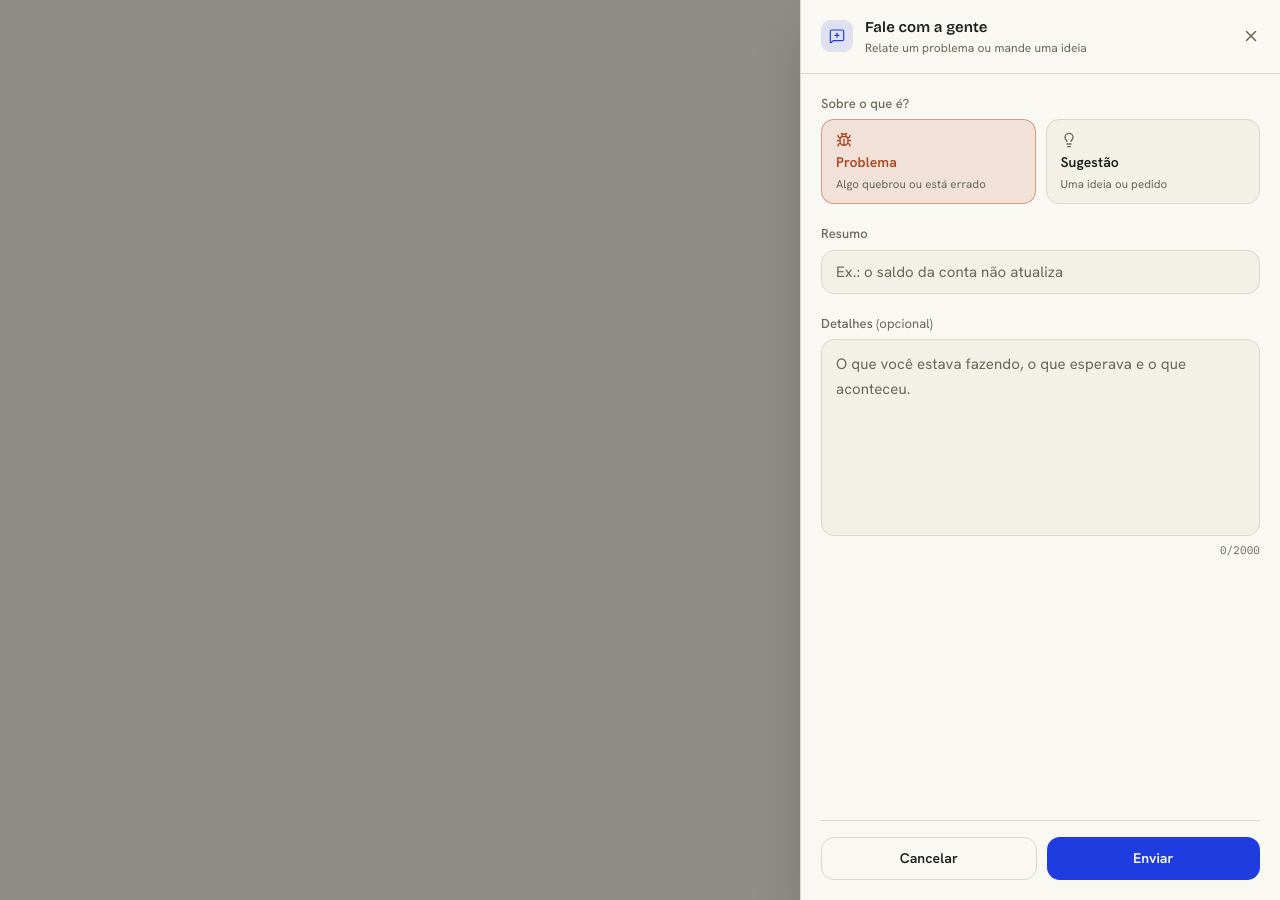
Test: FeedbackDrawer › refuses a summary shorter than three characters
Type "ab" into the field labelled "Resumo" at (1040, 272), box [821,250,1260,294]
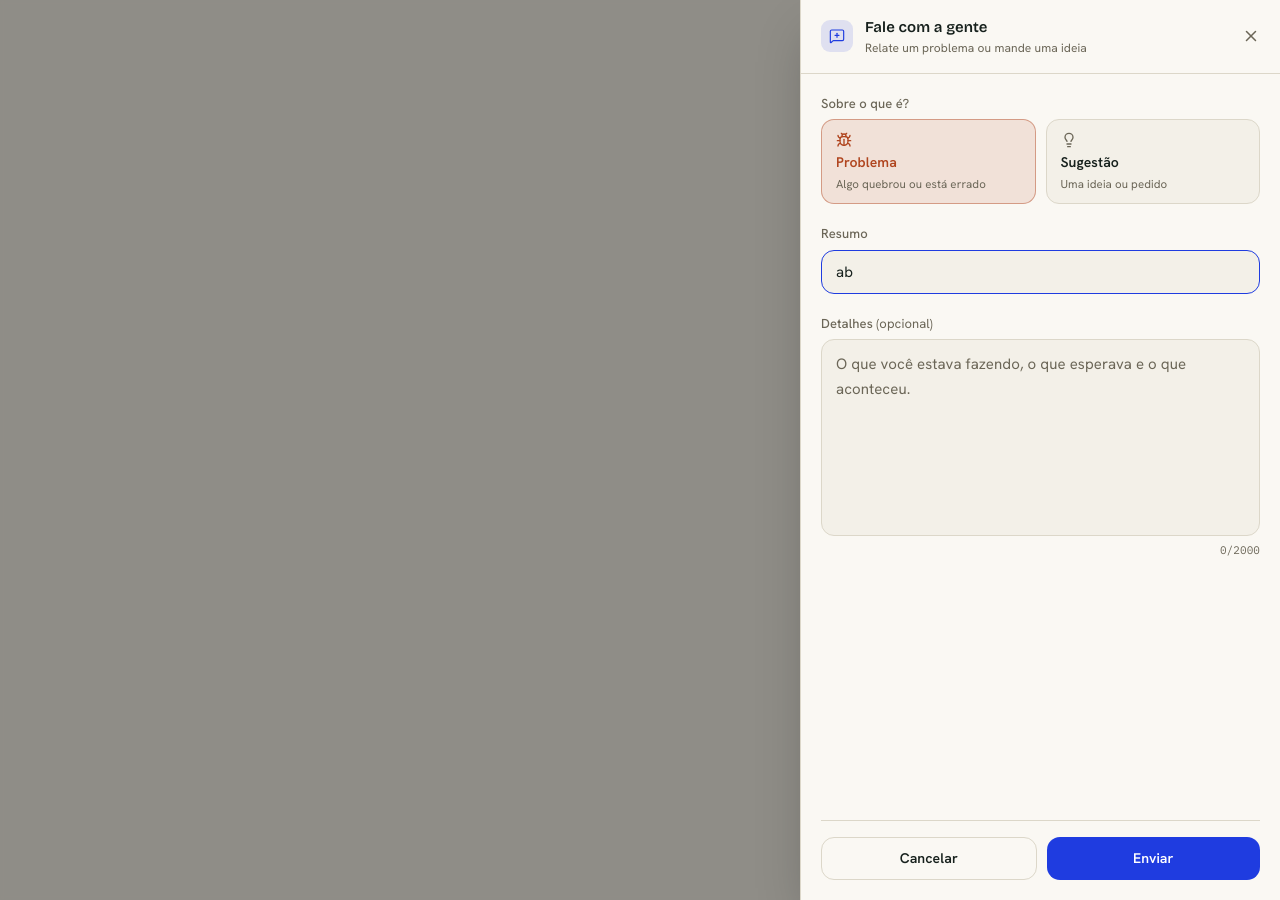
Click the button "Enviar" at (1153, 858), box [1046,837,1260,880]
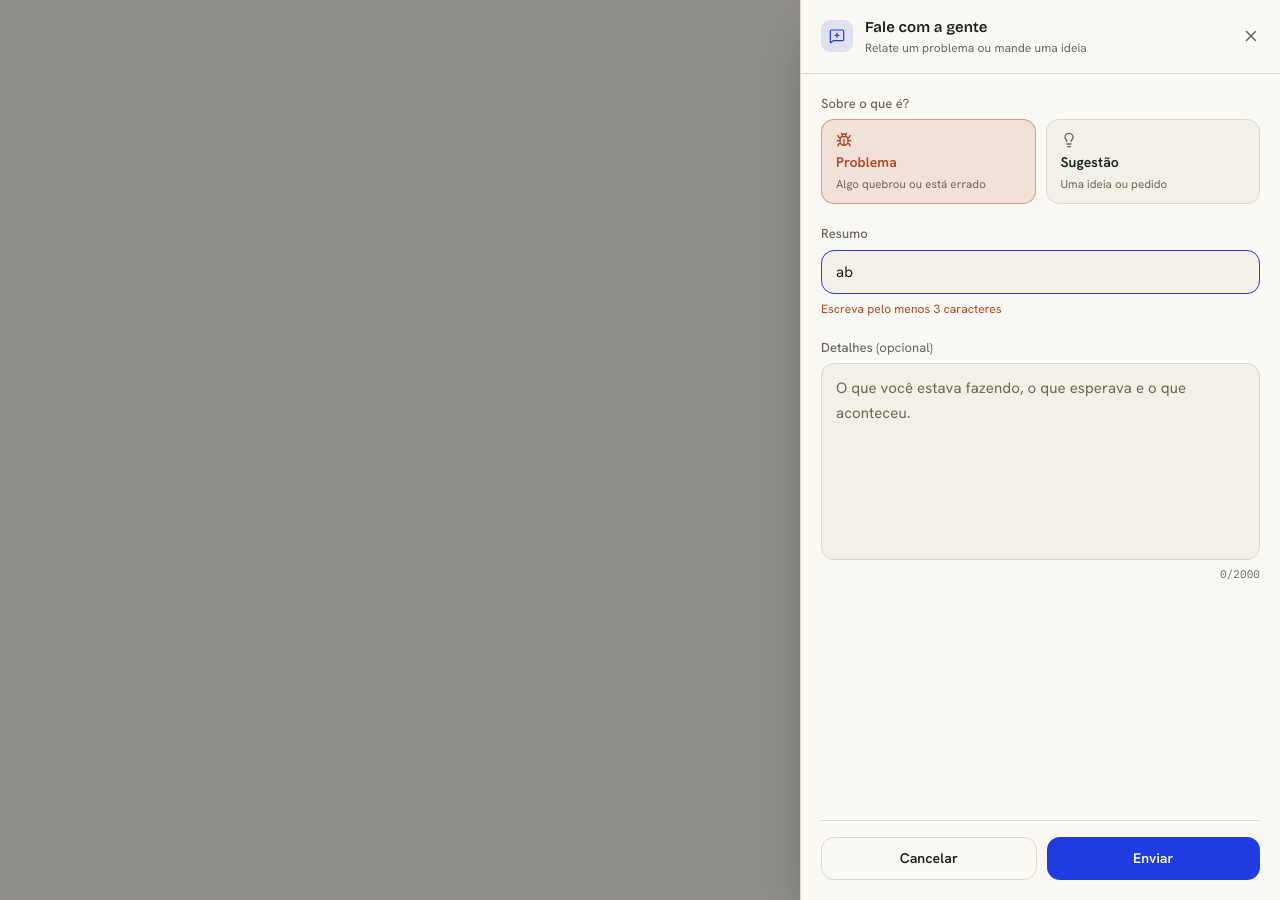
Now the text "Escreva pelo menos 3 caracteres" is shown, box [821,301,1002,317]
